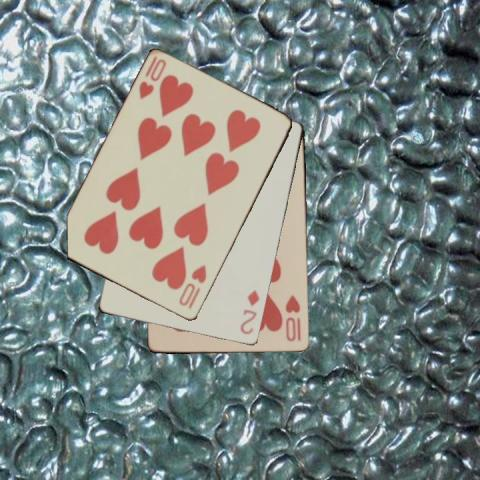10h: (176, 262, 209, 311), (136, 53, 168, 102), (282, 293, 302, 343)
2d: (237, 287, 262, 336)
